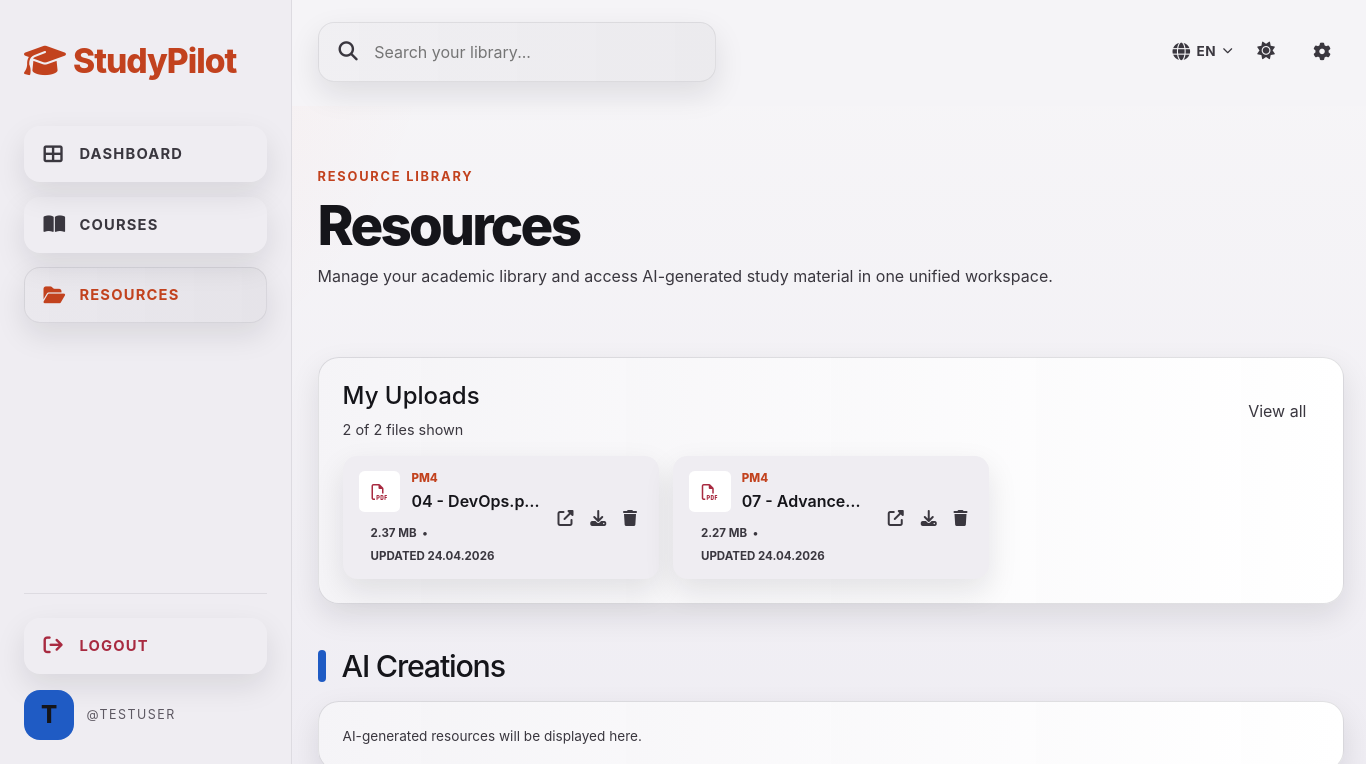
Test: ResourcesPage › loads all uploads when View all is clicked
This screenshot has width=1366, height=764.
Expected: the text "07 - Advanced Scrum.pdf" is shown, top-left (742, 489), bottom-right (870, 513)
Step 1. Click the button "View all" → click(1277, 411), box top-left (1235, 392), bottom-right (1319, 430)
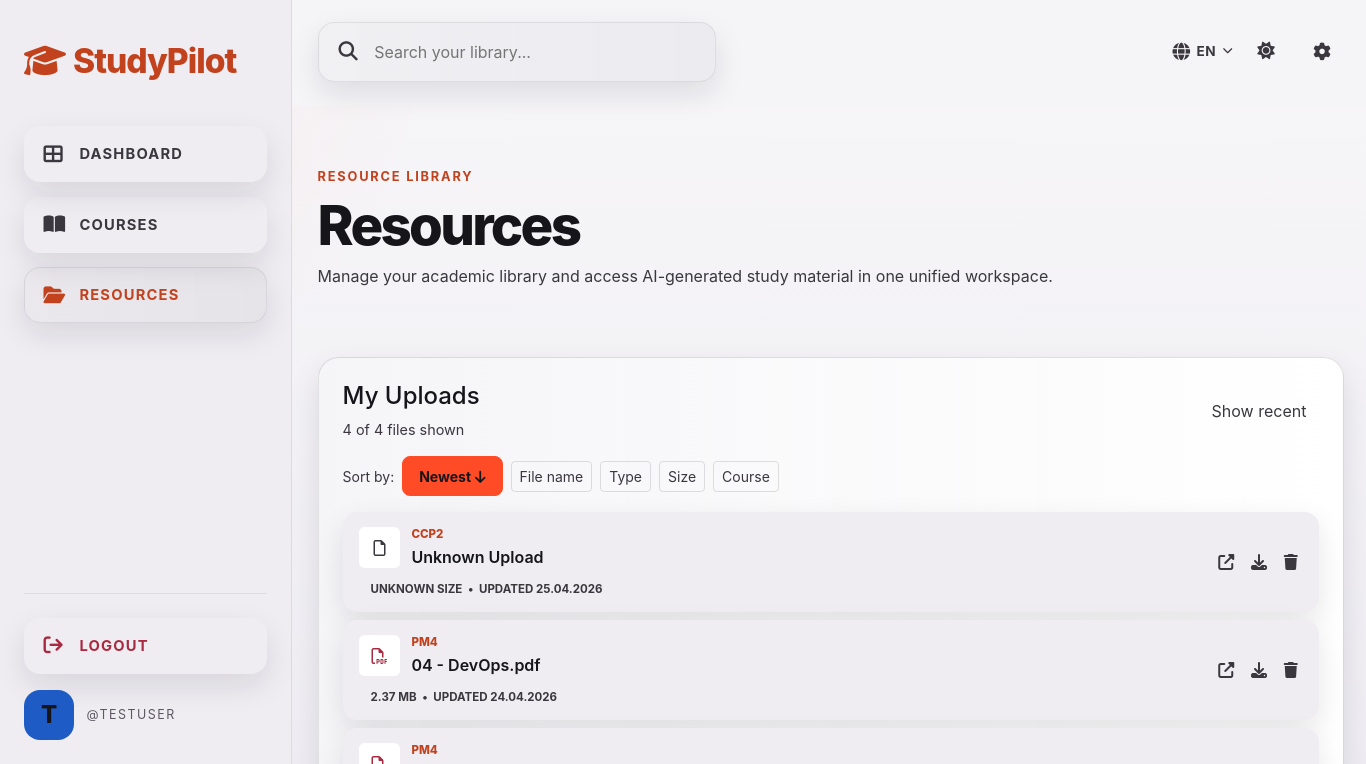
Now the text "Unknown Upload" is shown, box top-left (411, 545), bottom-right (544, 569)
Now the button "Show recent" is shown, box top-left (1198, 392), bottom-right (1319, 430)
Now the button "Course" is shown, box top-left (713, 461), bottom-right (779, 492)
